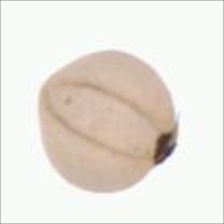L5: (42, 80, 154, 159), (149, 113, 183, 171)
L6: (36, 49, 184, 194)
